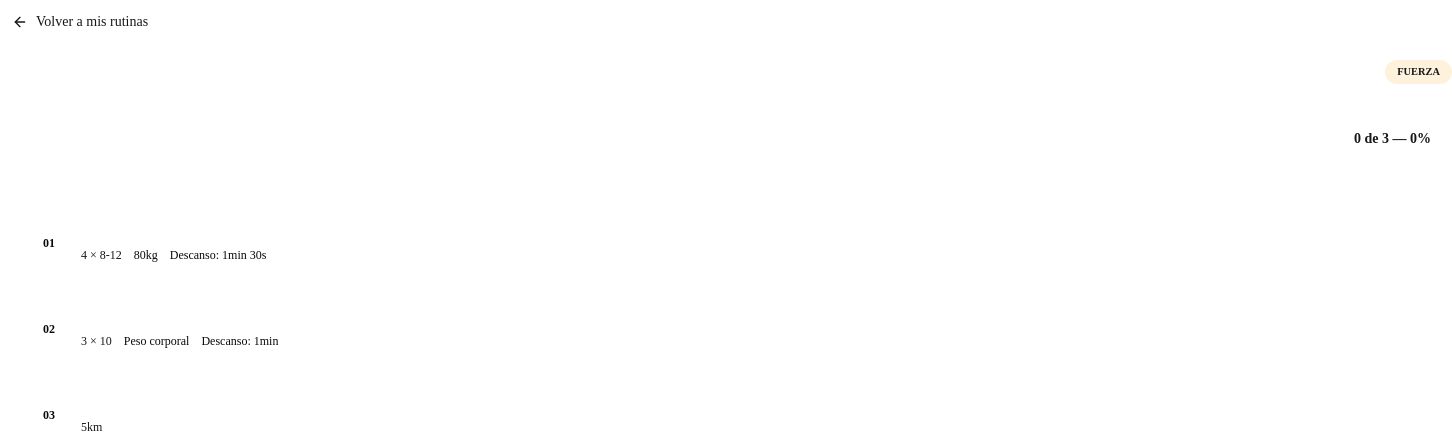
RutinaDiaClient › toggles exercise back to incomplete when clicked again
The image size is (1452, 448).
What coordinates should you click on to do the following:
click the text "Sentadilla"
I would click on:
 (732, 243)
Its box is [12,206,1451,280].
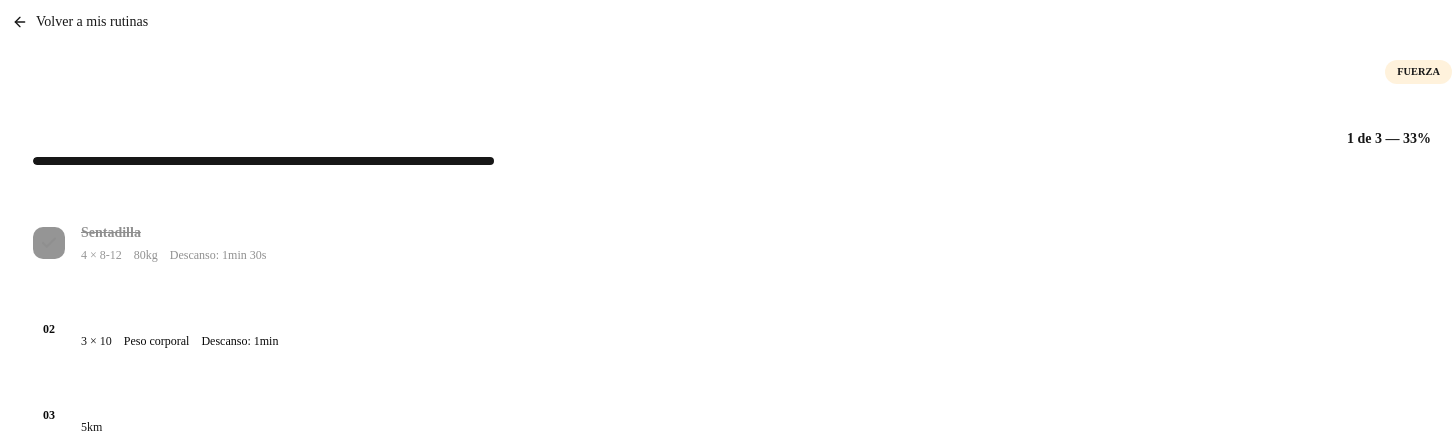
Expected: the text "1 de 3 — 33%" is shown, [1347,129,1431,149]
What coordinates should you click on to do the following:
click the text "Sentadilla"
I would click on:
 (732, 243)
Its box is [12,206,1451,280].
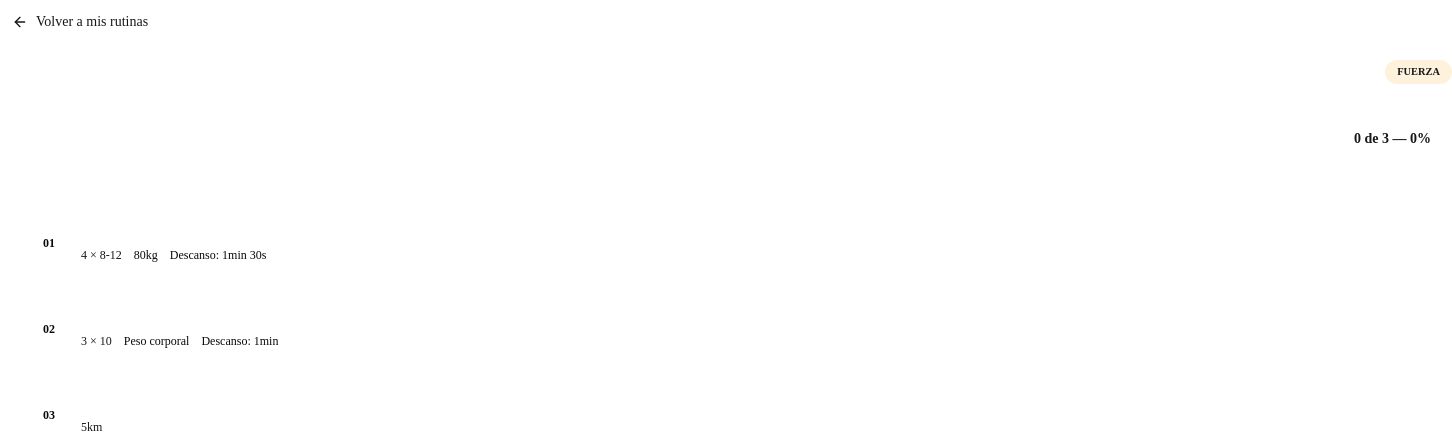
Expected: the text "0 de 3 — 0%" is shown, [1354,129,1431,149]
